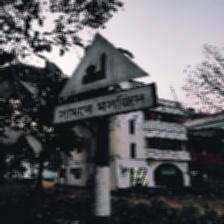Mosque in front: (53, 33, 155, 125)
